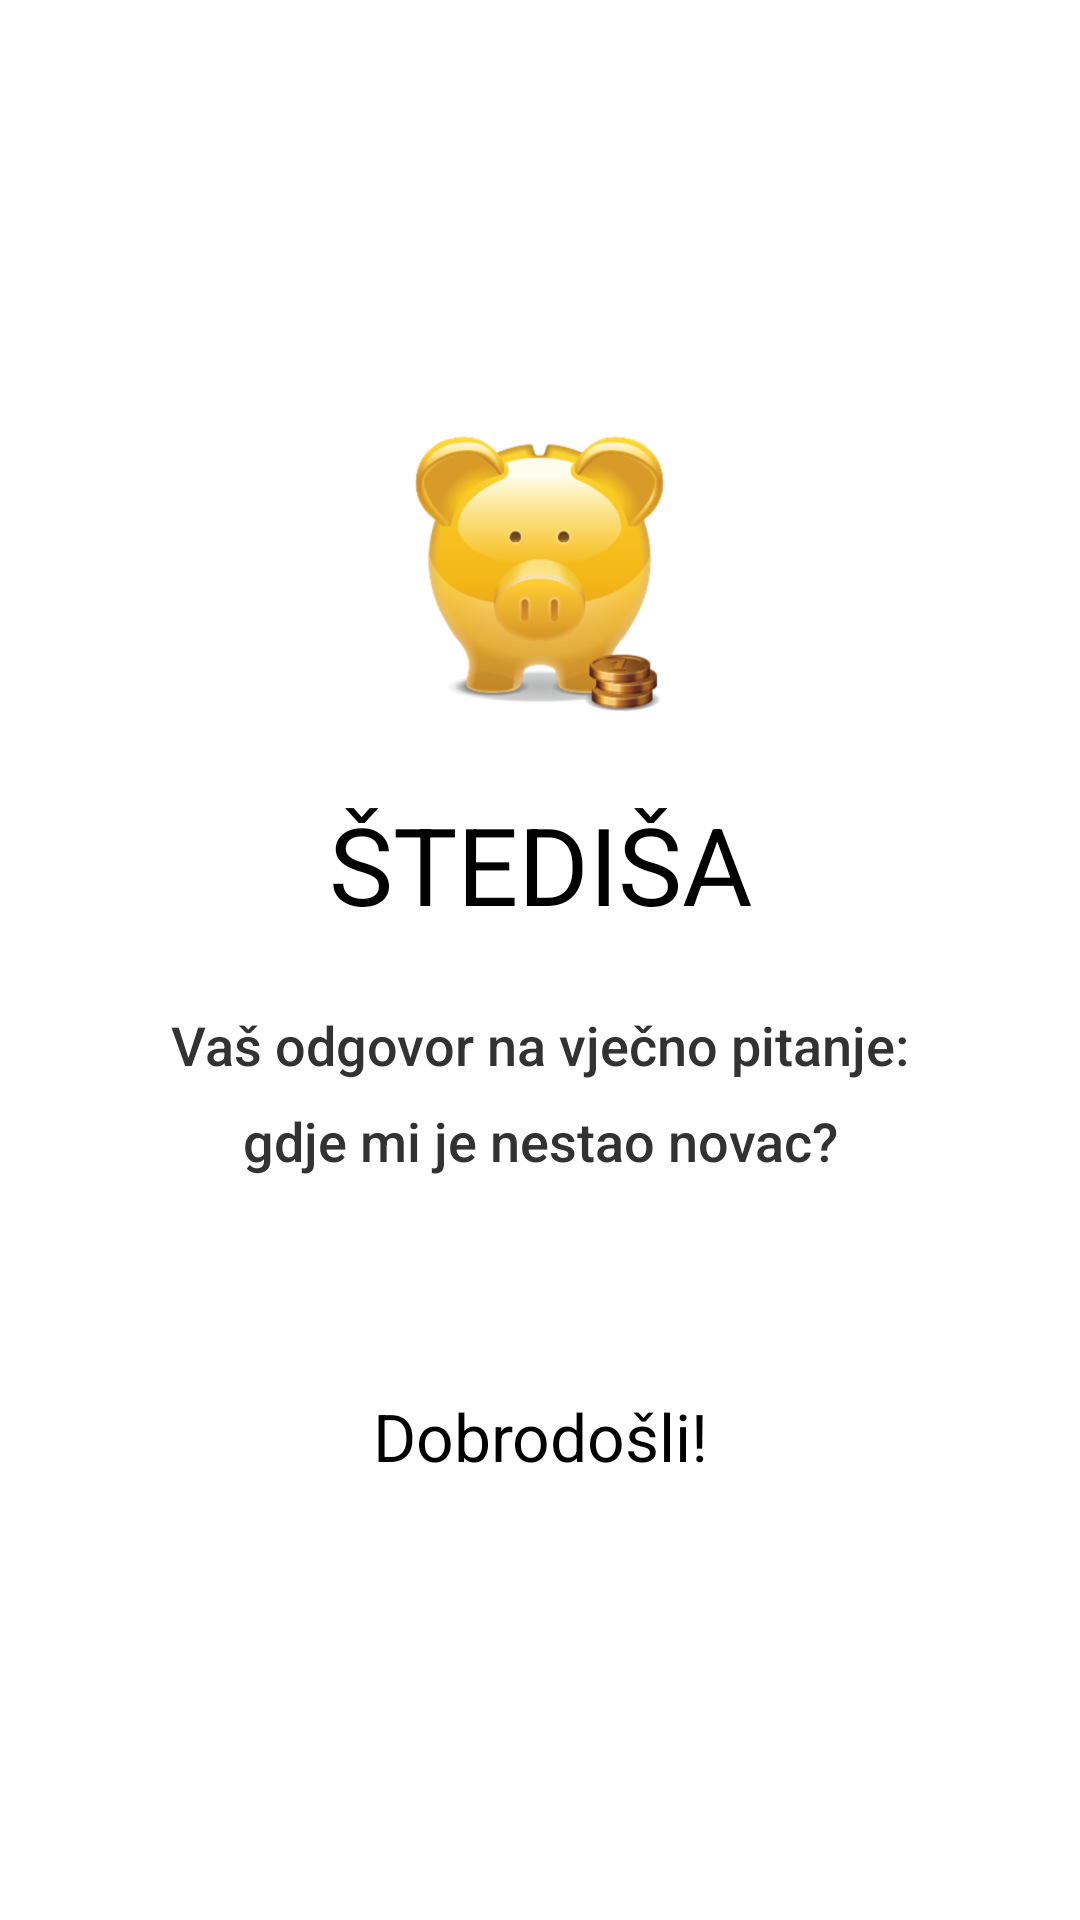

Where to tap for icons on this 1080px×1920px app screen, as point (x, y):
savings: point (539, 573)
